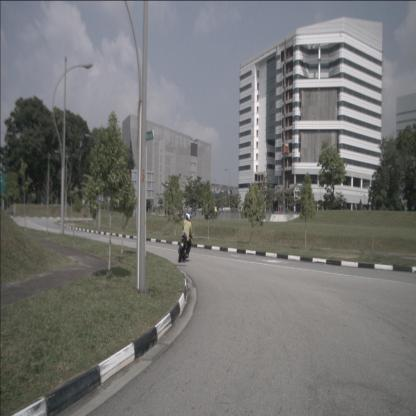vehicle-motorcycle: (178, 212, 194, 263)
